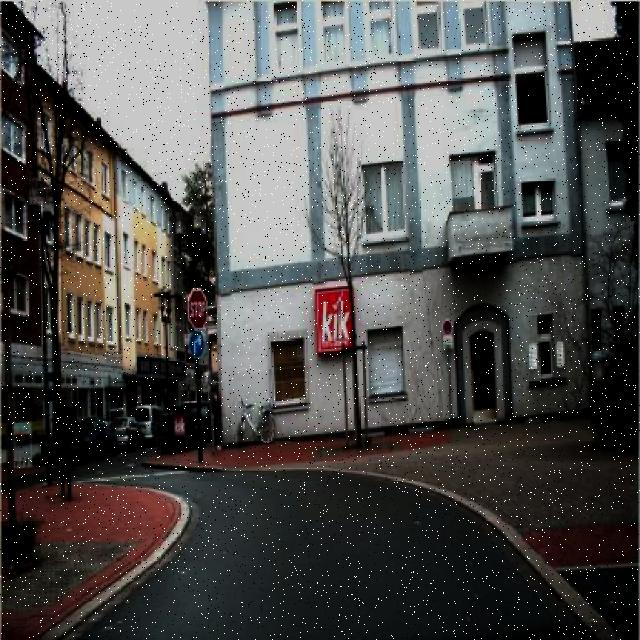Stop: (186, 284, 209, 332)
